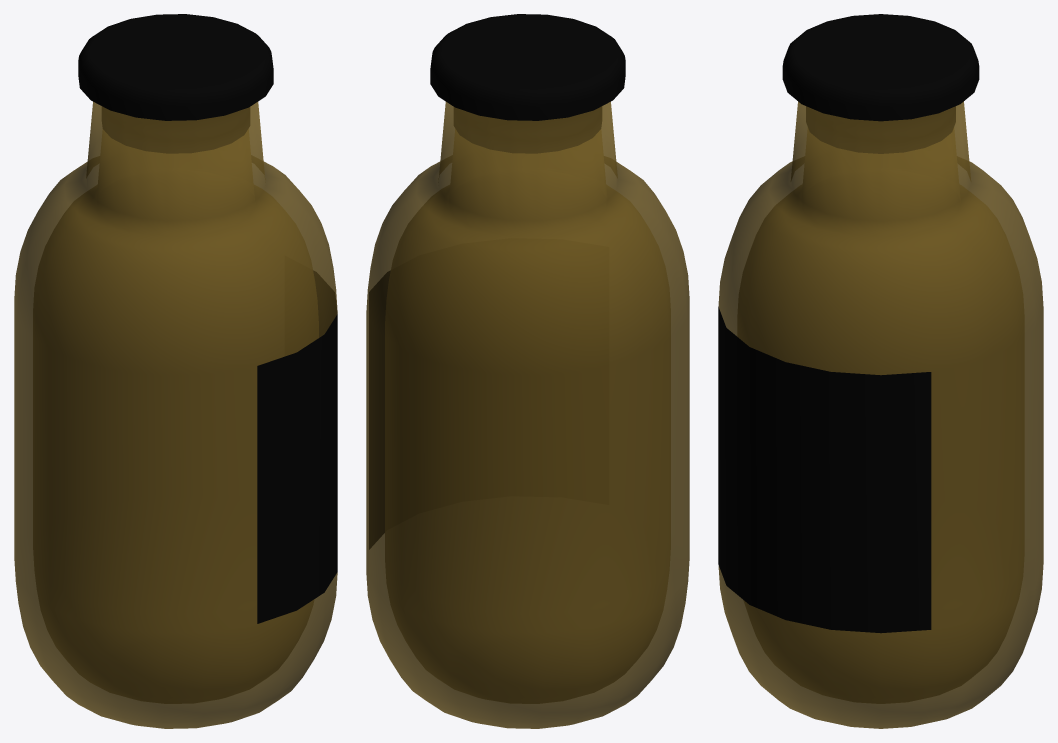
Rendered from can2.fbx.
3 renders of one model, left to right at view 1: azimuth 30°, elevation 25°; view 2: azimuth 150°, elevation 25°; view 3: azimuth 270°, elevation 25°, orthographic.
Visible parts, largest first — view 1: pCylinder1, pCylinder3, pCylinder2; view 2: pCylinder1, pCylinder3, pCylinder2; view 3: pCylinder1, pCylinder3, pCylinder2.
Boxes of the visible parts, box(x1,y1,x2,y2) form: pCylinder1: box(14, 101, 337, 728); pCylinder3: box(33, 129, 318, 703); pCylinder2: box(78, 14, 273, 153); pCylinder1: box(366, 101, 689, 728); pCylinder3: box(385, 129, 670, 703); pCylinder2: box(430, 14, 625, 153); pCylinder1: box(718, 101, 1043, 728); pCylinder3: box(737, 129, 1024, 703); pCylinder2: box(782, 14, 979, 153).
Size of the model in its own units: 9.67 by 20.96 by 9.67.
